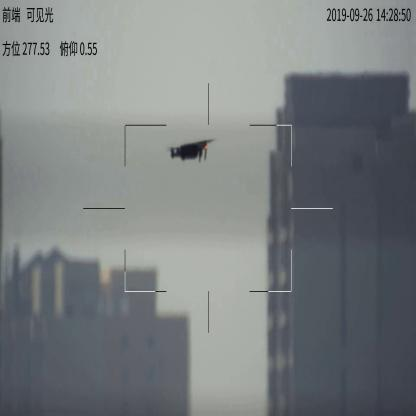uav: (166, 137, 216, 163)
